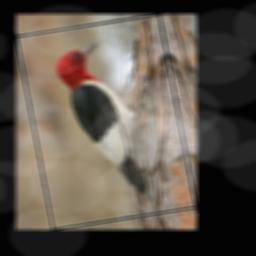Woodpecker: (49, 33, 175, 213)
